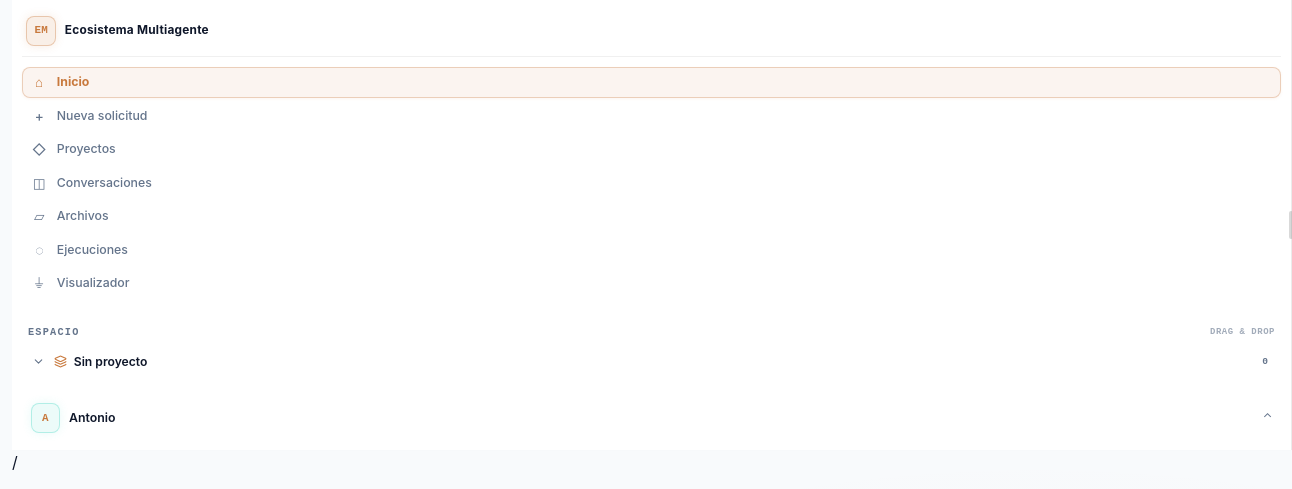
Test: closes on an outside pointer interaction and restores focus
Click the button with aria-label "Perfil de Antonio": (92, 417) [22,396,1281,440]
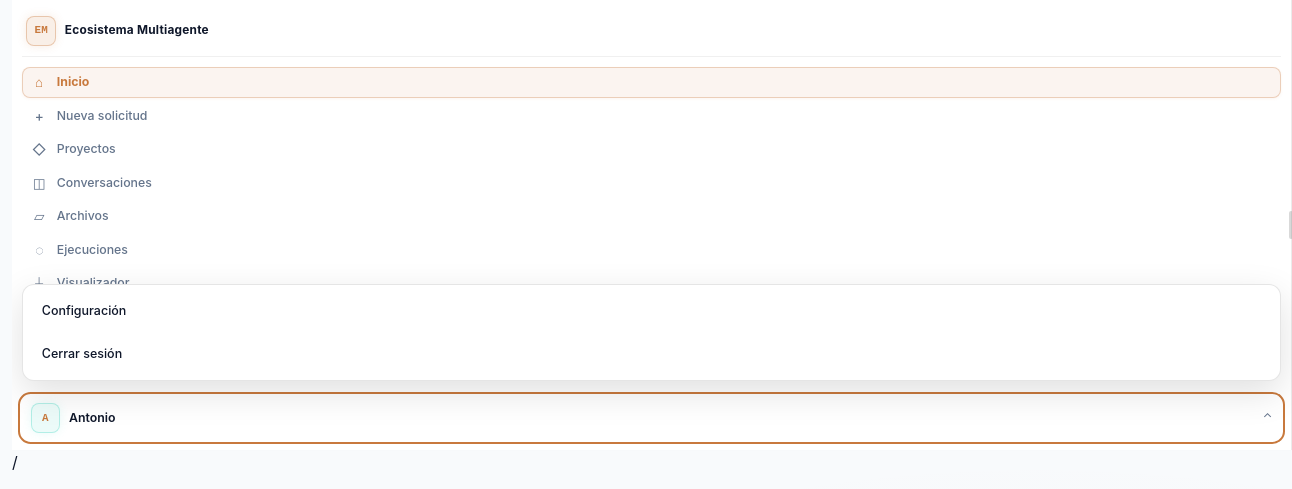
Press the mouse on the text named "Ruta actual": (15, 462) [12,452,18,472]
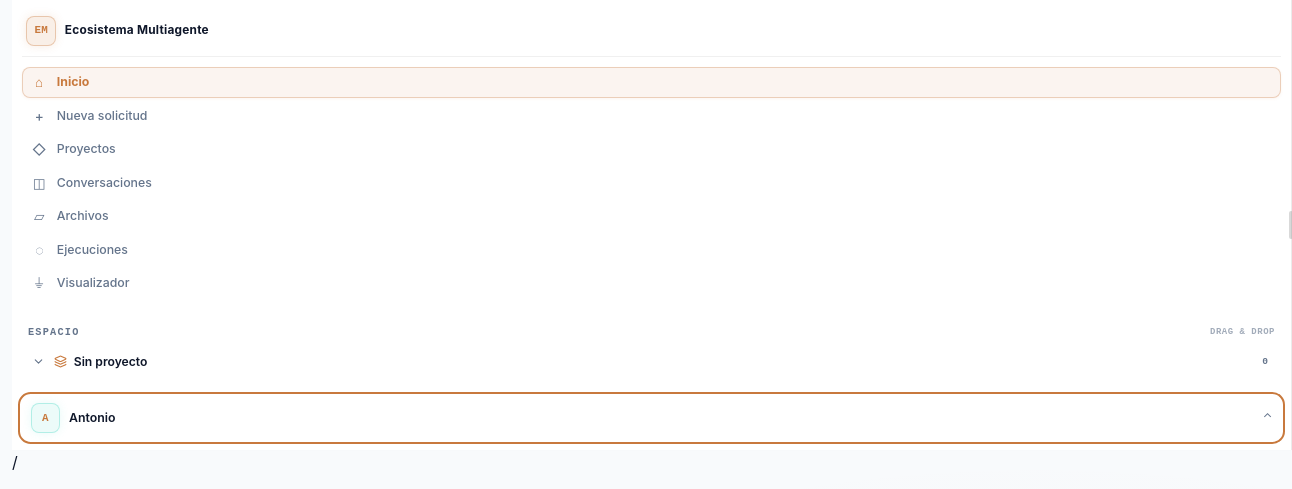
expect the menu is gone: met
